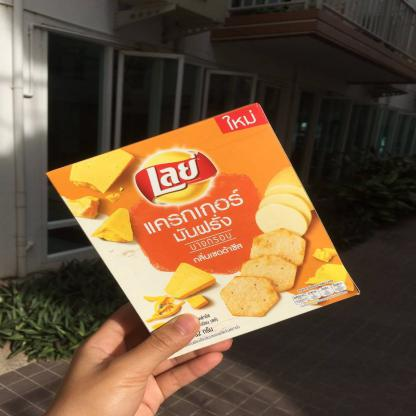potatochip: (36, 96, 366, 359)
